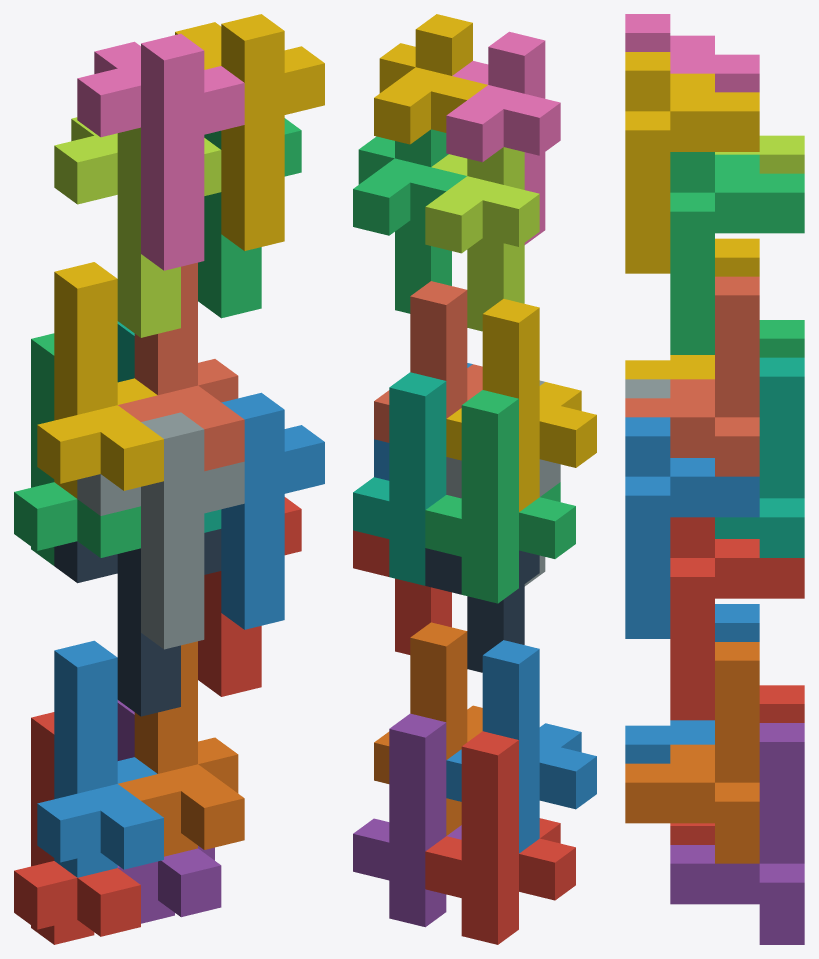
Rendered from tiling.obj.
The picture shows the model from 3 angles, left to right: view 1: azimuth 30°, elevation 25°; view 2: azimuth 150°, elevation 25°; view 3: azimuth 270°, elevation 25°; orthographic projection. The views are drawn at different scales.
Visible parts, largest first — view 1: copy_2_domain_4, copy_1_domain_2, copy_1_domain_4, copy_2_domain_2, copy_2_domain_8, copy_2_domain_6, copy_1_domain_6, copy_2_domain_3, copy_1_domain_1, copy_1_domain_8, copy_1_domain_3, copy_2_domain_1 (+4 smaller); view 2: copy_1_domain_1, copy_1_domain_3, copy_1_domain_5, copy_2_domain_3, copy_1_domain_2, copy_1_domain_4, copy_1_domain_7, copy_2_domain_4, copy_2_domain_7, copy_2_domain_8, copy_1_domain_6, copy_1_domain_8 (+4 smaller); view 3: copy_2_domain_8, copy_1_domain_6, copy_2_domain_7, copy_1_domain_5, copy_2_domain_6, copy_2_domain_5, copy_1_domain_8, copy_1_domain_7, copy_2_domain_4, copy_1_domain_2, copy_1_domain_4, copy_1_domain_1 (+3 smaller).
Boxes of the visible parts, box(x1,y1,x2,y2) form: copy_2_domain_4: box(77, 33, 244, 270); copy_1_domain_2: box(37, 640, 163, 877); copy_1_domain_4: box(37, 262, 163, 498); copy_2_domain_2: box(77, 412, 244, 649); copy_2_domain_8: box(175, 14, 324, 250); copy_2_domain_6: box(221, 392, 324, 629); copy_1_domain_6: box(118, 641, 244, 856); copy_2_domain_3: box(54, 117, 221, 337); copy_1_domain_1: box(14, 712, 140, 944); copy_1_domain_8: box(118, 262, 244, 471); copy_1_domain_3: box(14, 333, 140, 565); copy_2_domain_1: box(54, 529, 221, 716); copy_1_domain_1: box(425, 731, 575, 944); copy_1_domain_3: box(425, 390, 575, 603); copy_1_domain_5: box(353, 713, 461, 927); copy_2_domain_3: box(425, 147, 539, 331); copy_1_domain_2: box(446, 640, 596, 853); copy_1_domain_4: box(446, 298, 596, 511); copy_1_domain_7: box(353, 372, 446, 585); copy_2_domain_4: box(446, 31, 560, 244); copy_2_domain_7: box(353, 129, 466, 313); copy_2_domain_8: box(374, 14, 487, 144); copy_1_domain_6: box(374, 622, 482, 835); copy_1_domain_8: box(374, 281, 482, 442); copy_2_domain_8: box(625, 52, 759, 273); copy_1_domain_6: box(625, 642, 759, 863); copy_2_domain_7: box(670, 152, 804, 354); copy_1_domain_5: box(670, 723, 804, 944); copy_2_domain_6: box(625, 417, 759, 638); copy_2_domain_5: box(670, 517, 804, 720); copy_1_domain_8: box(625, 276, 759, 476); copy_1_domain_7: box(715, 357, 804, 557); copy_2_domain_4: box(625, 14, 759, 92); copy_1_domain_2: box(625, 604, 759, 763); copy_1_domain_4: box(625, 238, 759, 379); copy_1_domain_1: box(670, 685, 804, 844).
Bounding box in the file's own units: 6 × 22 × 4.
